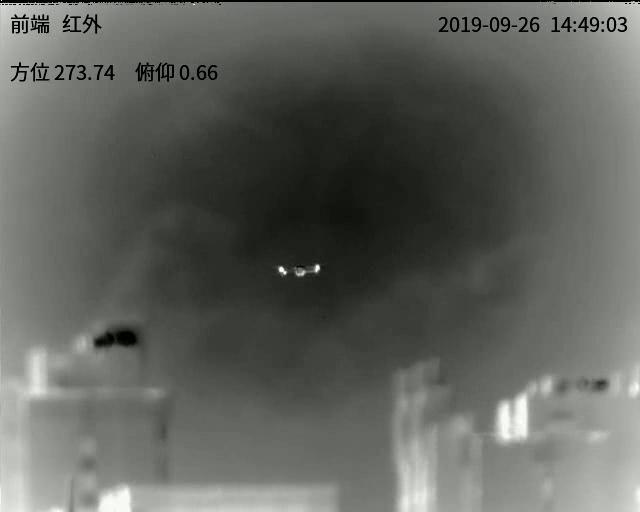DRONE: (276, 263, 321, 276)
